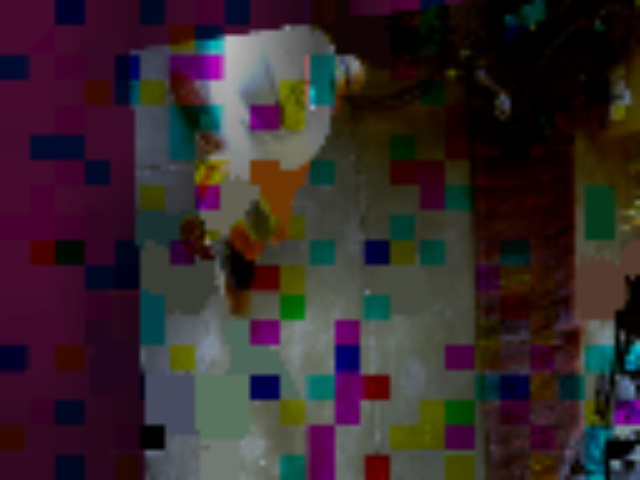three: (279, 76, 316, 136)
